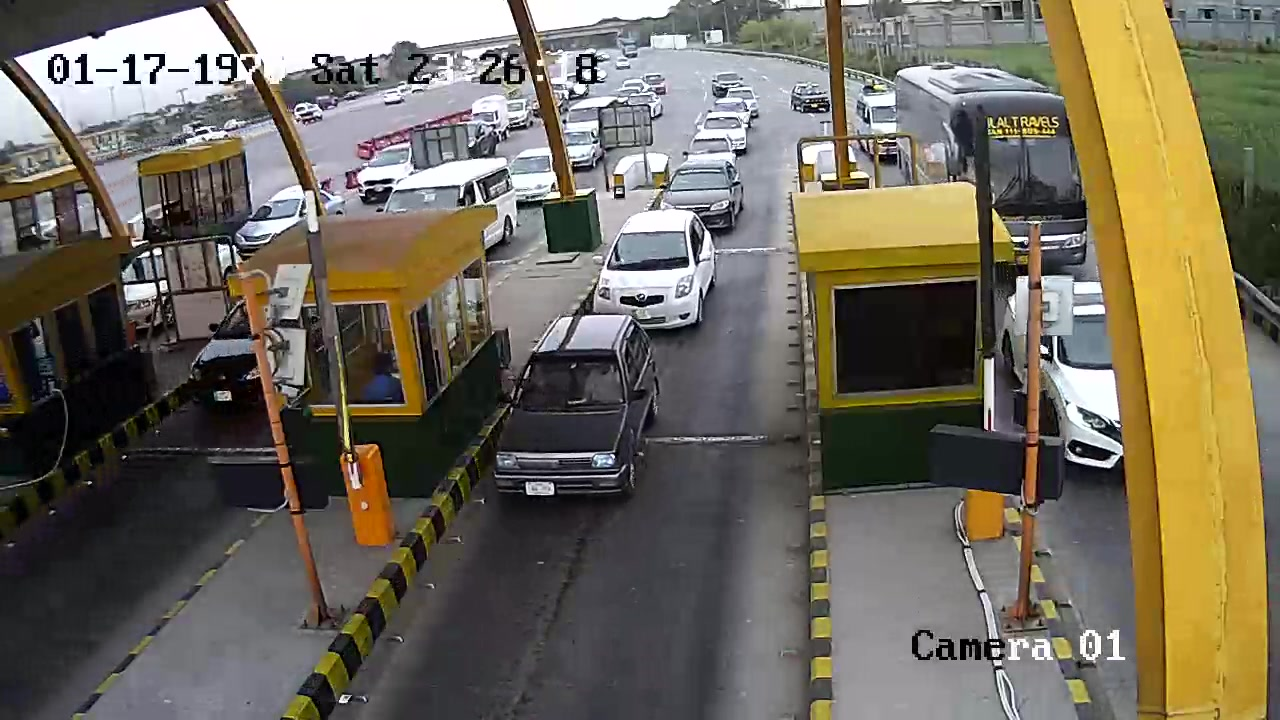F1: (488, 317, 671, 515), (560, 207, 731, 322)
